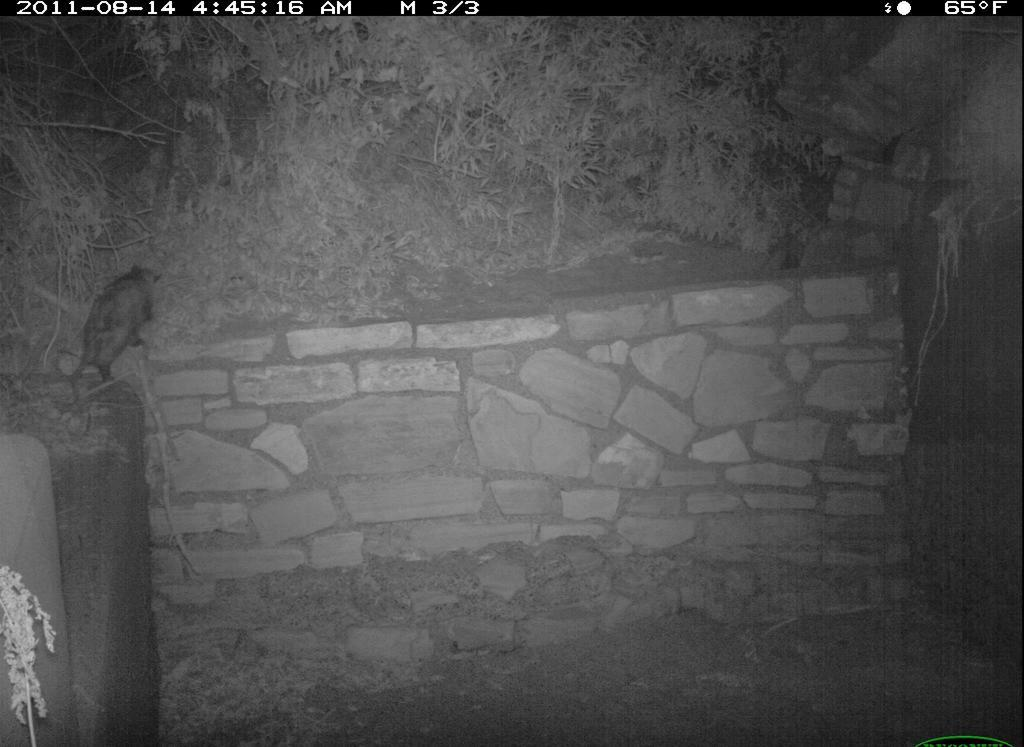opossum: (66, 254, 167, 388)
